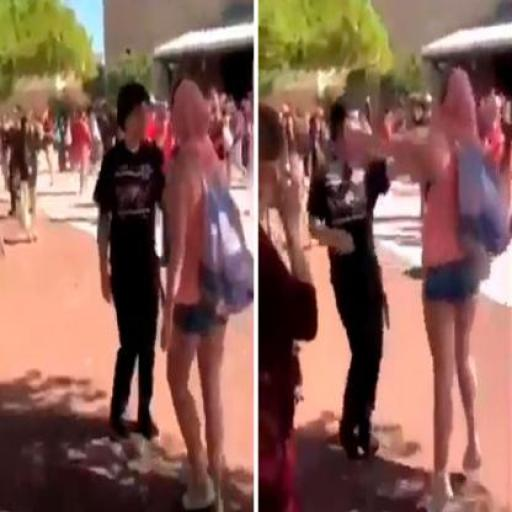Fighting: (316, 68, 512, 511), (93, 71, 245, 512)
